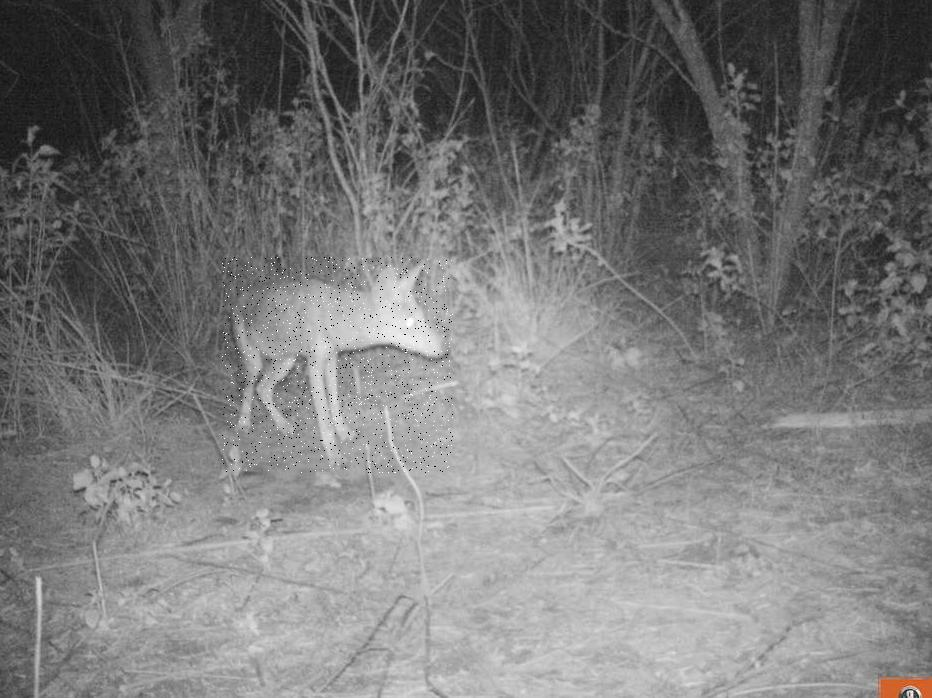Coyote: (222, 258, 453, 474)
